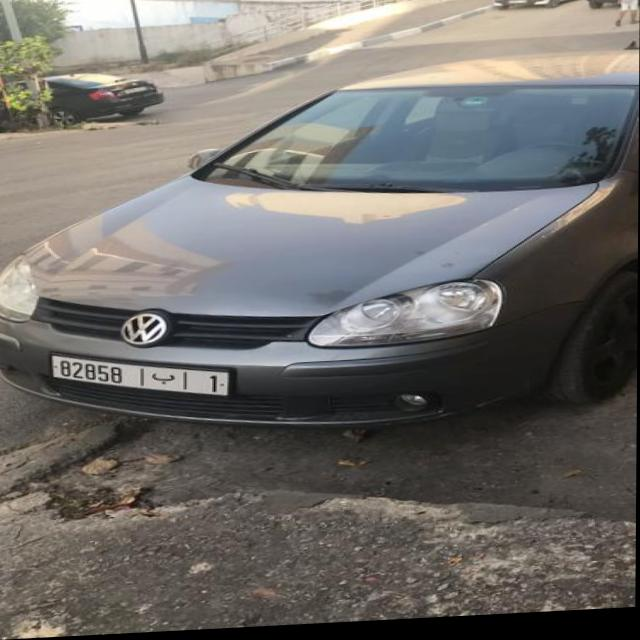License-Plate: (51, 356, 229, 397)
